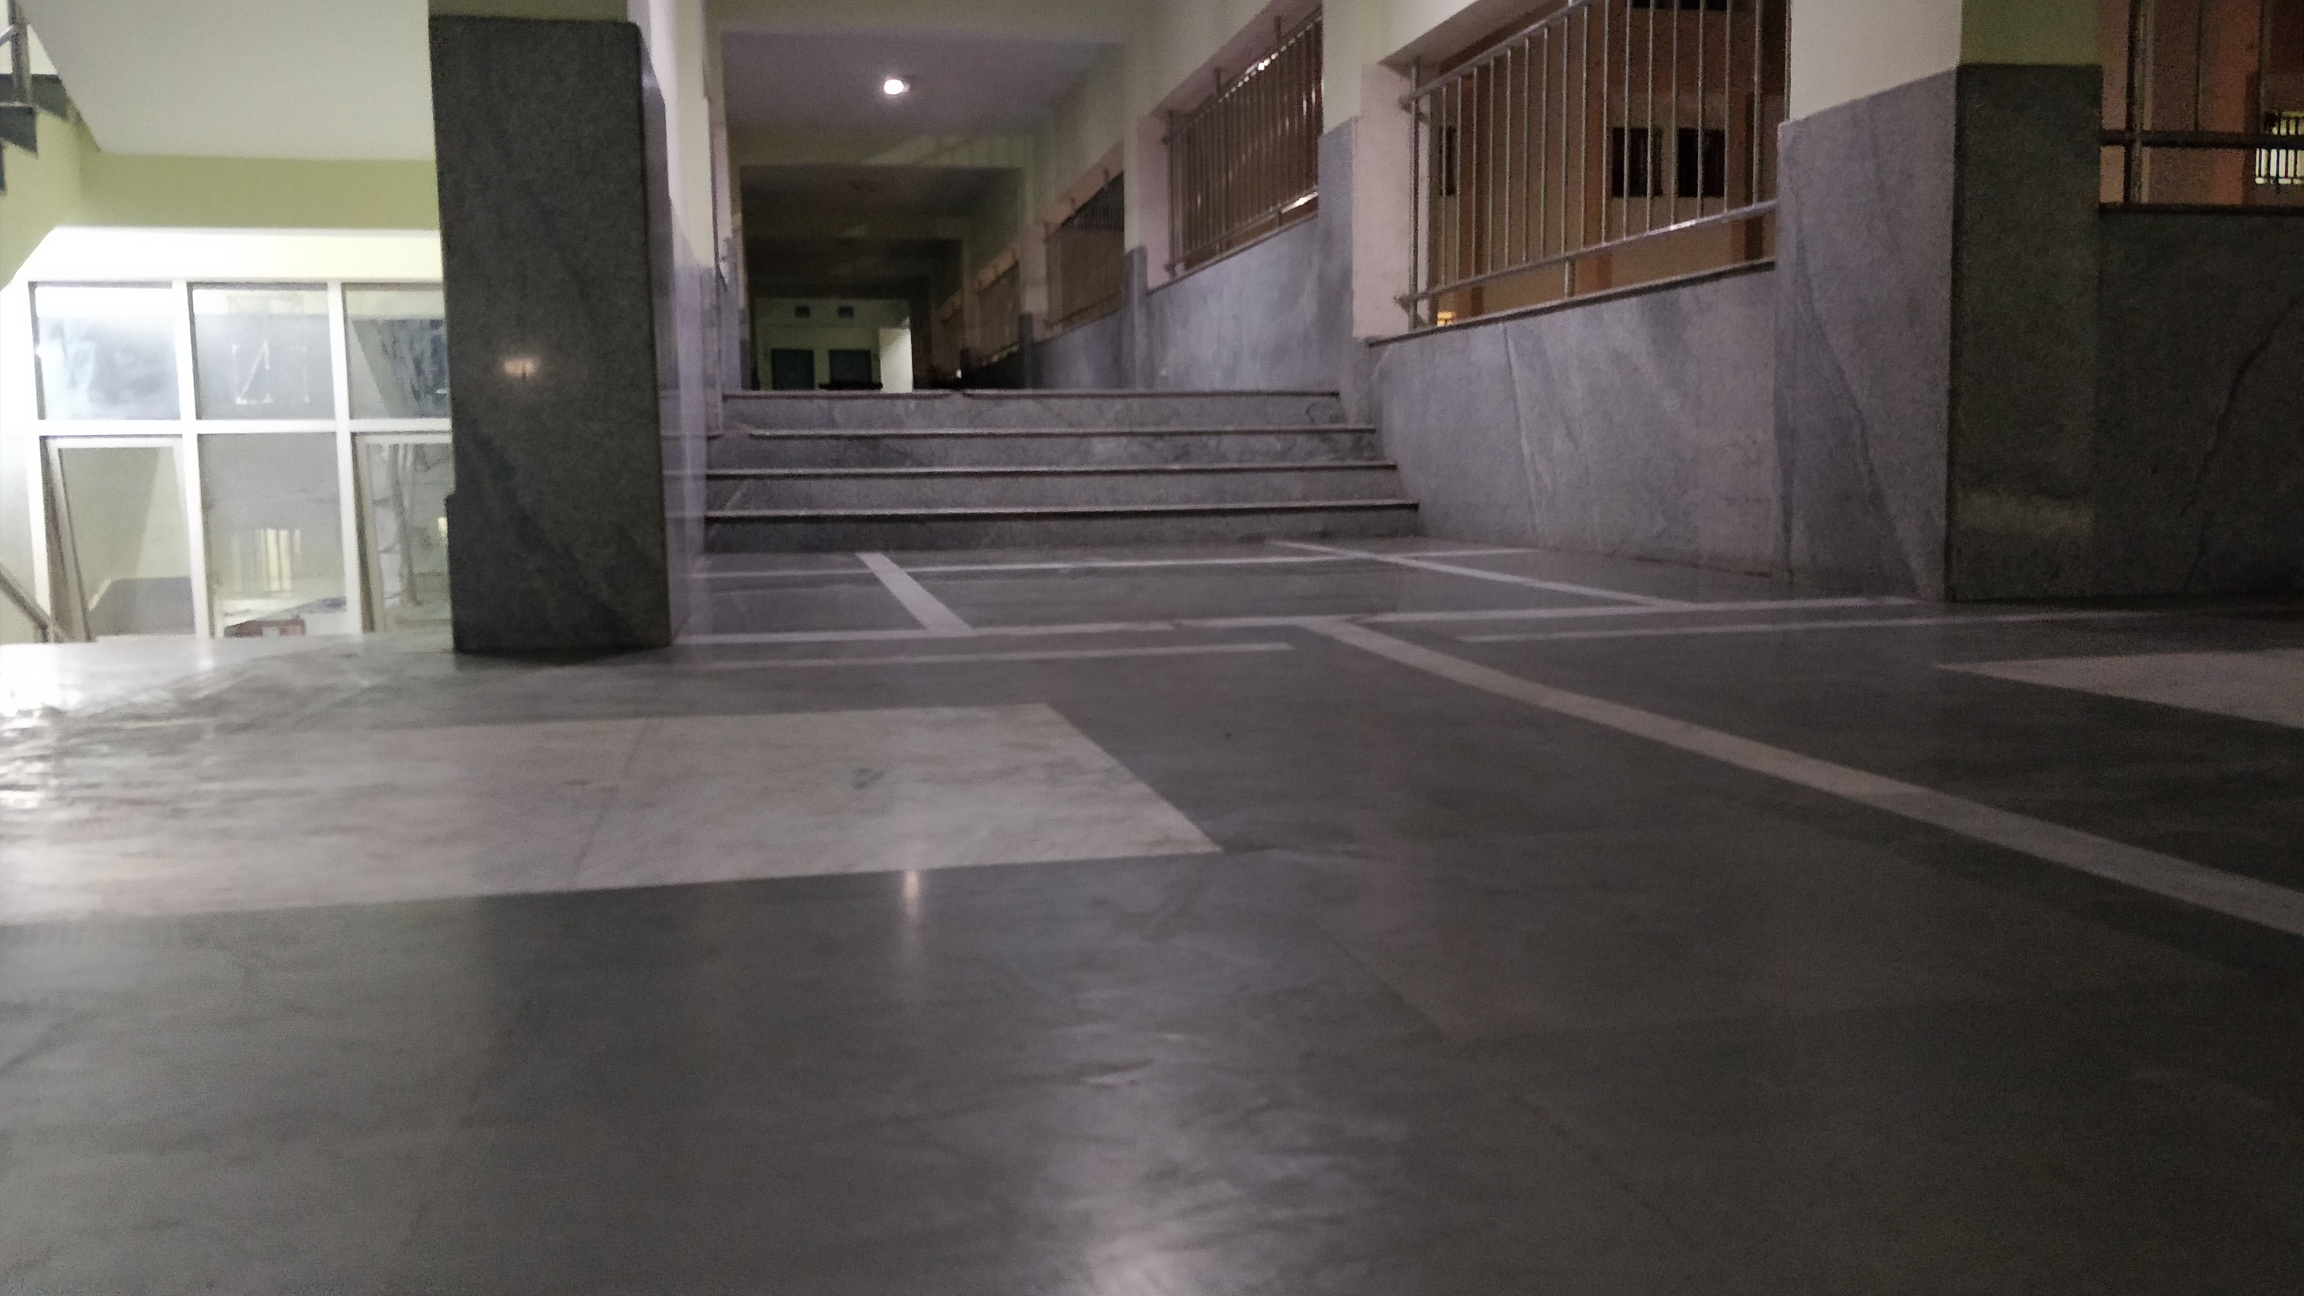stairs_up: (704, 370, 1408, 562)
